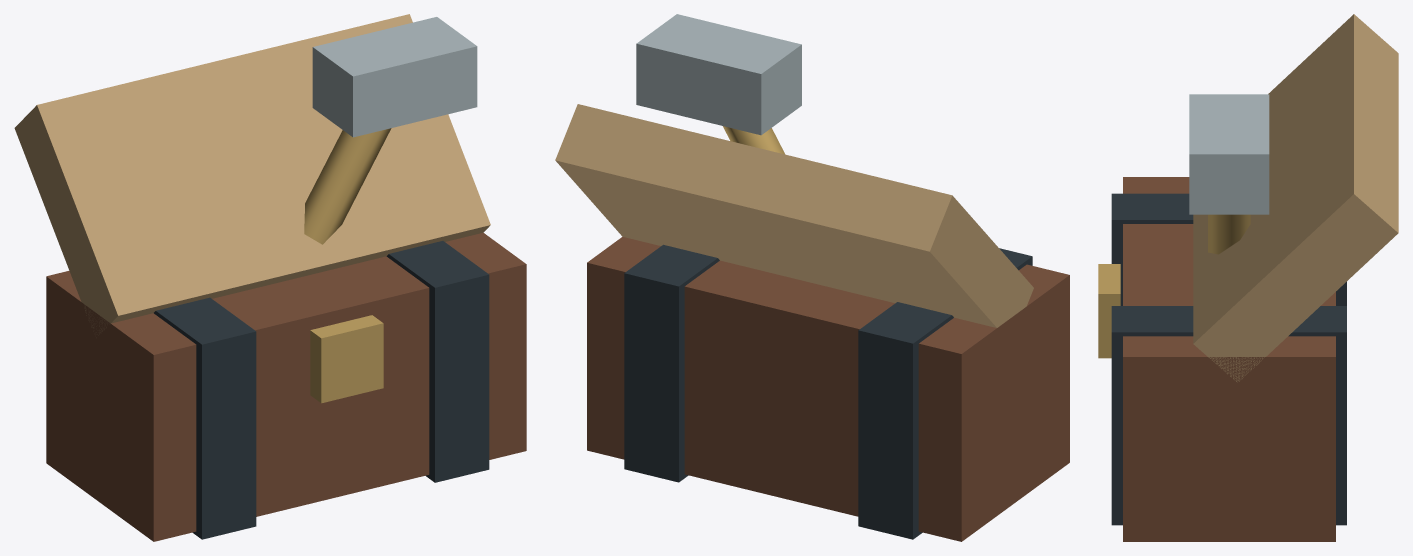
The model's file is fixed-kit.glb.
The picture shows the model from 3 angles, left to right: view 1: azimuth 30°, elevation 25°; view 2: azimuth 150°, elevation 25°; view 3: azimuth 270°, elevation 25°; orthographic projection.
Visible parts, largest first — view 1: piece_whole; view 2: piece_whole; view 3: piece_whole.
Boxes of the visible parts, bbox=[...] form: piece_whole: bbox=[14, 14, 526, 541]; piece_whole: bbox=[555, 14, 1069, 541]; piece_whole: bbox=[1098, 14, 1398, 541].
Bounding box in the file's own units: 0.48 × 0.4775 × 0.3382.
